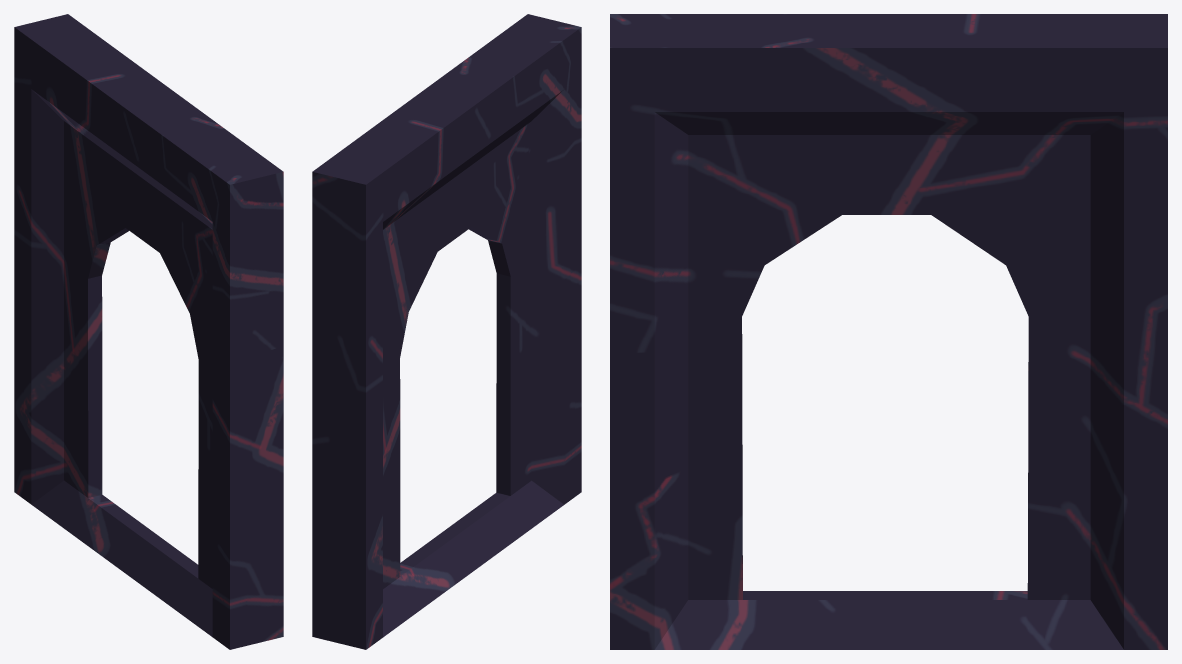
Rendered from Wall_Doorway.obj.
3 views of the same model, side by side, from view 1: azimuth 30°, elevation 25°; view 2: azimuth 150°, elevation 25°; view 3: azimuth 270°, elevation 25° (orthographic). The views are drawn at different scales.
Visible parts, largest first — view 1: Entry pan Baseextra Tenple; view 2: Entry pan Baseextra Tenple; view 3: Entry pan Baseextra Tenple.
Boxes of the visible parts, x1,y1,x2,y2 form: Entry pan Baseextra Tenple: (14,14,283,649); Entry pan Baseextra Tenple: (312,14,581,649); Entry pan Baseextra Tenple: (610,14,1167,649).
Bounding box in the file's own units: 0.8942 × 7.4 × 6.21.
1 material, 1 textured.
